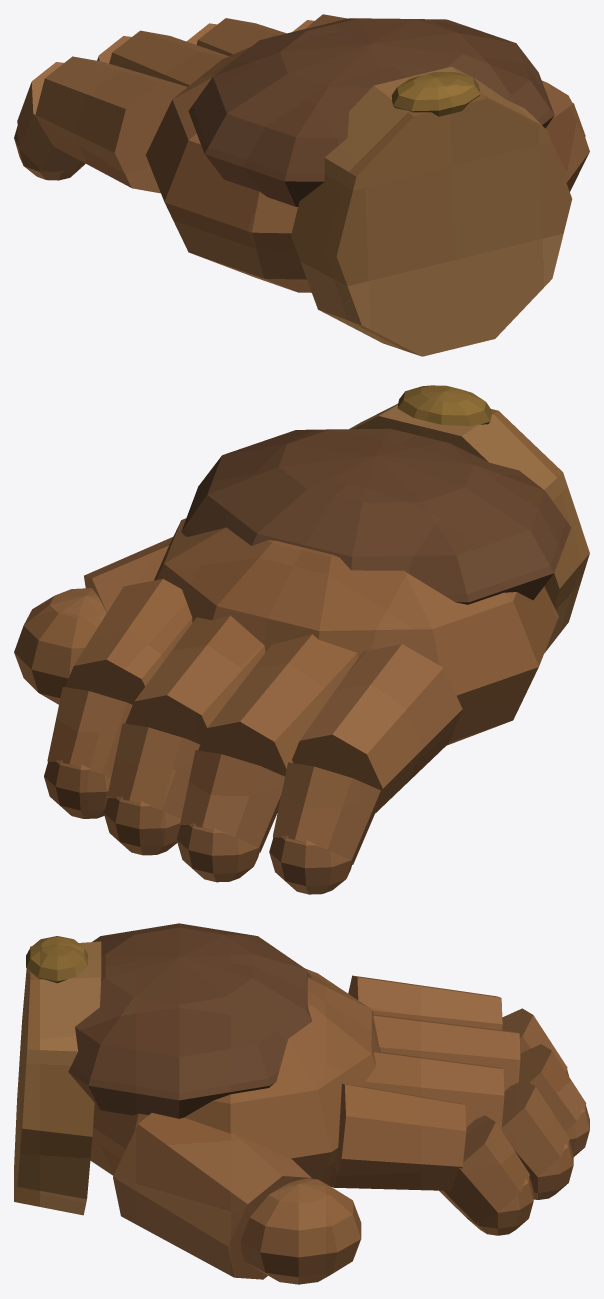
Rendered from LeftPalm-749b952ccdc6.glb.
3 views of the same model, one above another, from view 1: azimuth 30°, elevation 25°; view 2: azimuth 150°, elevation 25°; view 3: azimuth 270°, elevation 25° (orthographic). The views are drawn at different scales.
Visible parts, largest first — view 1: Set; view 2: Set; view 3: Set.
Boxes of the visible parts, bbox=[...] form: Set: bbox=[14, 14, 589, 356]; Set: bbox=[14, 385, 589, 894]; Set: bbox=[14, 923, 589, 1284].
Size of the model in its own units: 0.209 by 0.119 by 0.2457.
Materials: 4 (4 with a texture image).
